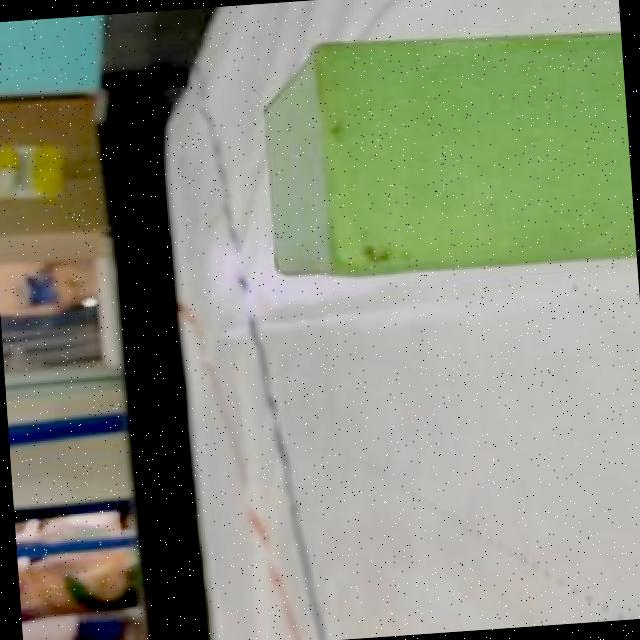greenbox: (248, 20, 636, 286)
